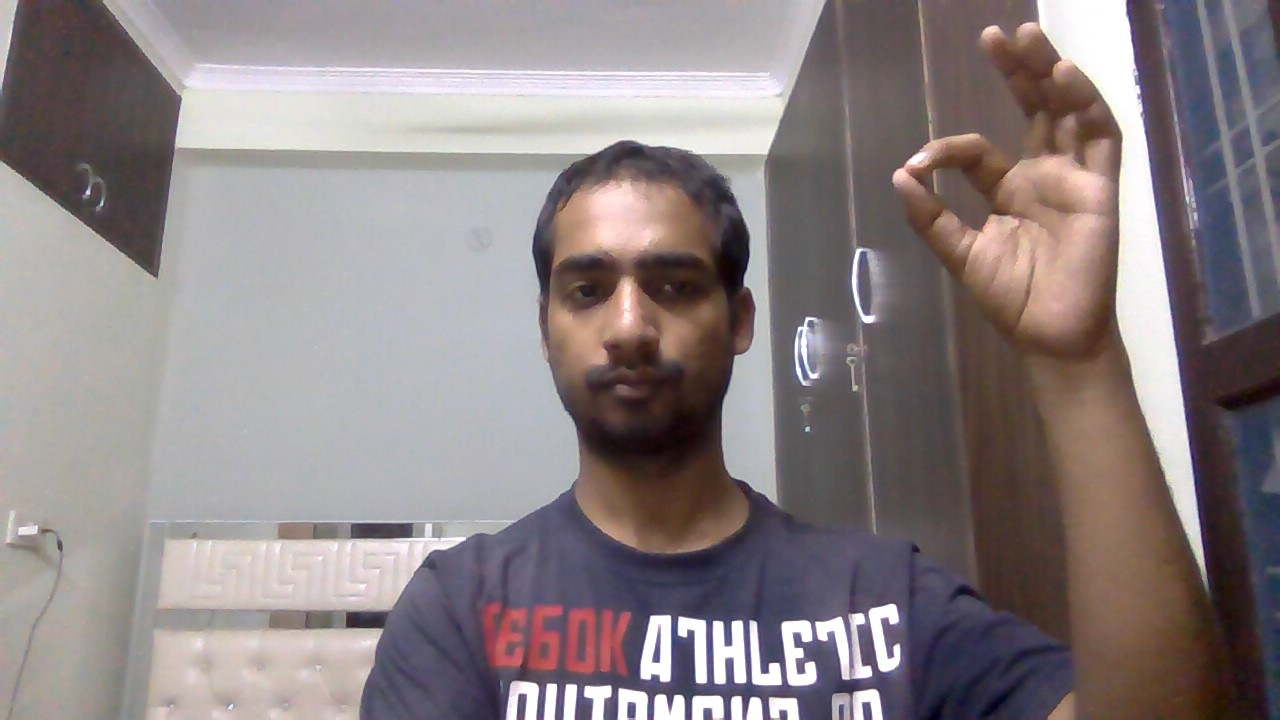Copy: (879, 16, 1160, 356)
